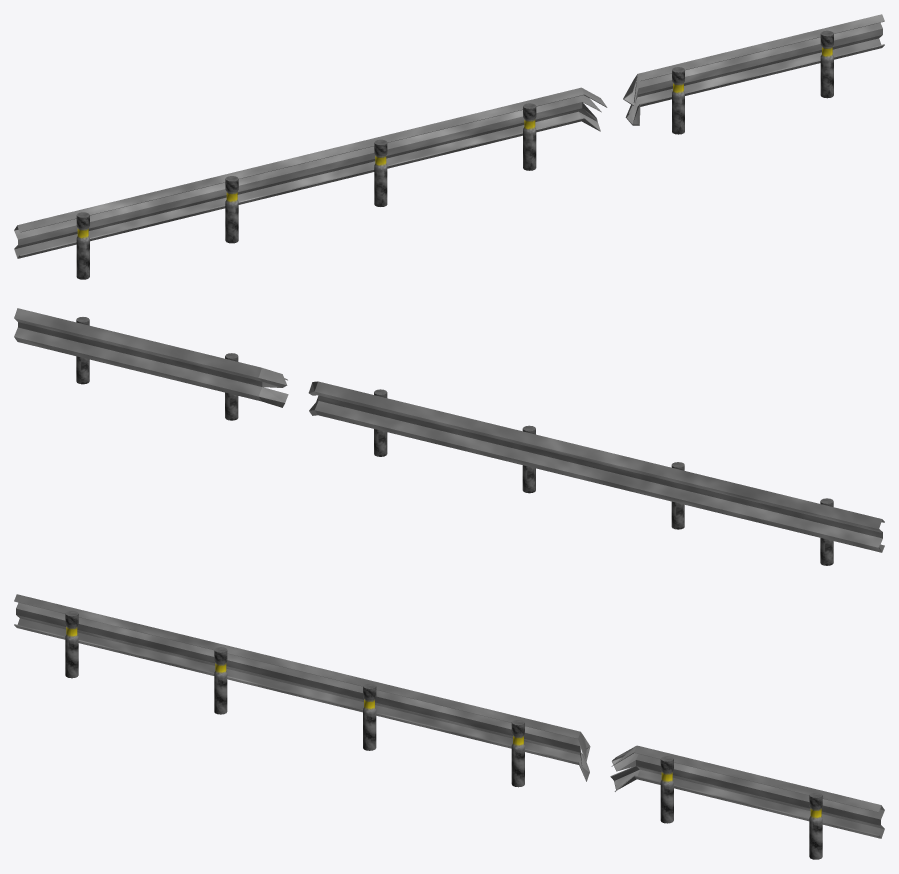
File: fense_hole.fbx
3 views of the same model, one above another, from view 1: azimuth 30°, elevation 25°; view 2: azimuth 150°, elevation 25°; view 3: azimuth 330°, elevation 25° (orthographic).
Visible parts, largest first — view 1: Plane.002, Cylinder.034; view 2: Plane.002, Cylinder.034; view 3: Plane.002, Cylinder.034.
Boxes of the visible parts, left/top/right/bottom form: Plane.002: left=14, top=14, right=884, bottom=258; Cylinder.034: left=76, top=30, right=833, bottom=279; Plane.002: left=14, top=308, right=884, bottom=552; Cylinder.034: left=76, top=317, right=833, bottom=565; Plane.002: left=14, top=594, right=884, bottom=838; Cylinder.034: left=65, top=610, right=822, bottom=859.
Size of the model in its own units: 1942 by 135 by 60.87.
